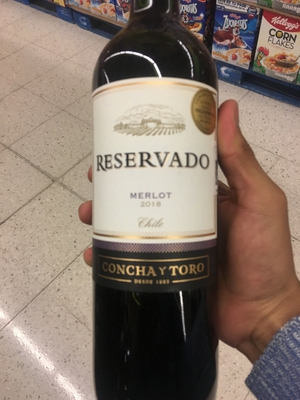reservado merlot: (88, 6, 227, 400)
